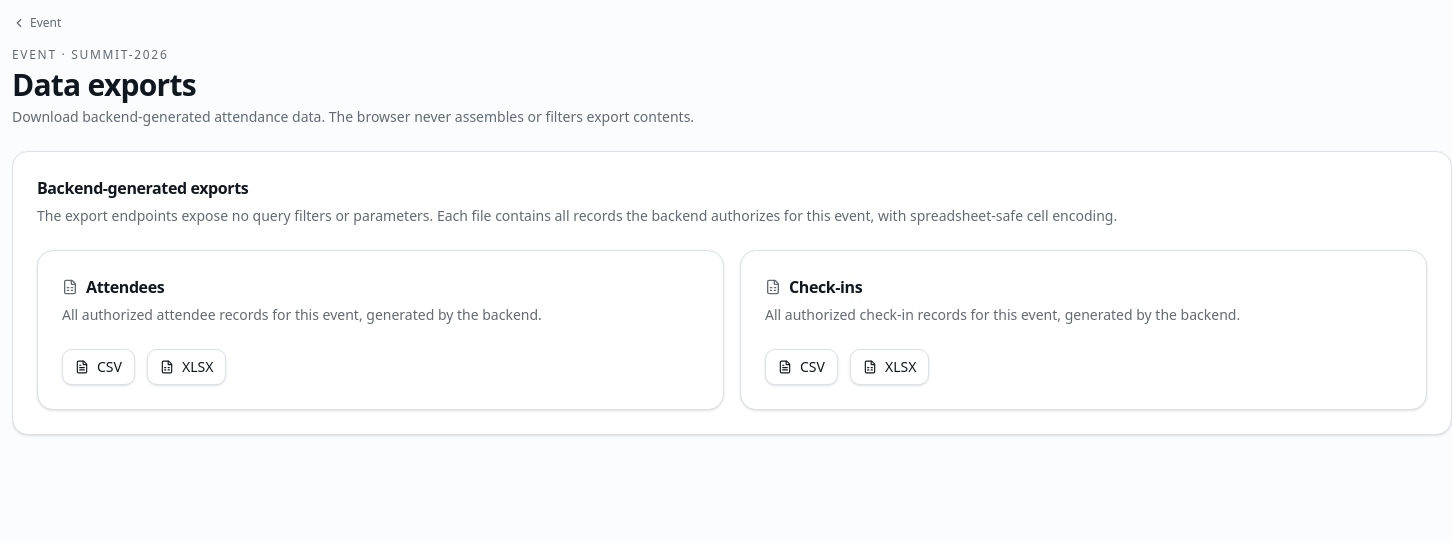
CSV and XLSX exports › downloads attendee CSV with the backend filename and content type
Click the button with aria-label "Download attendees CSV" at x=98, y=367, box left=62, top=349, right=135, bottom=385
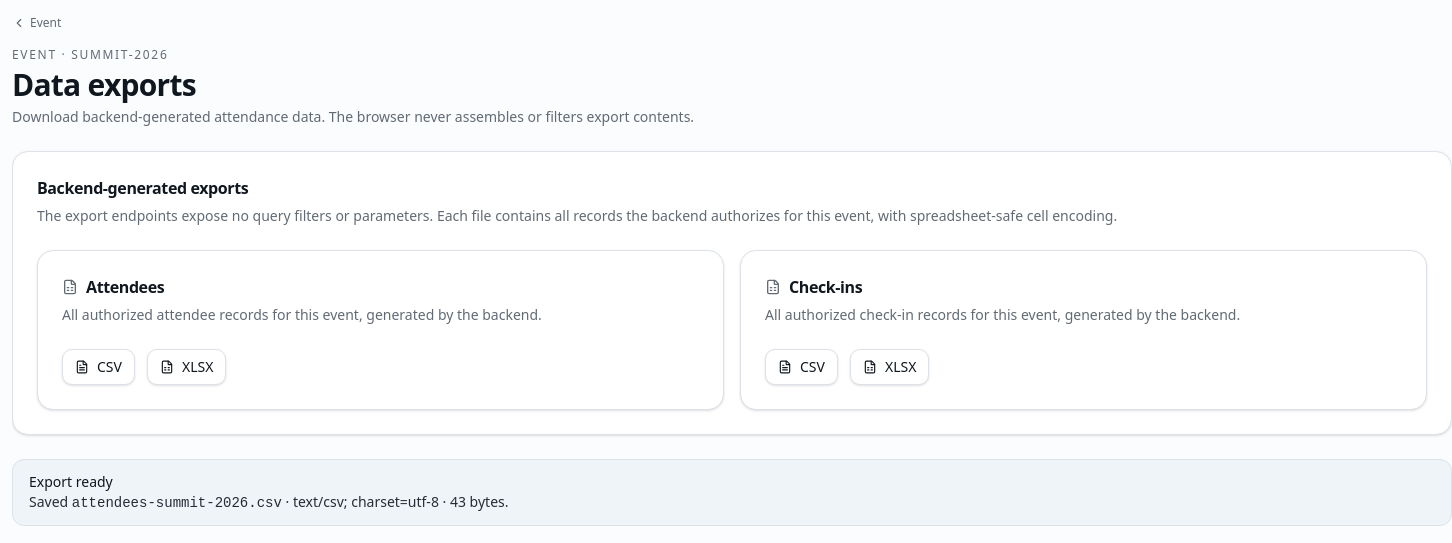
Now the message shows "attendees-summit-2026.csv", box left=72, top=495, right=282, bottom=511
Now the message shows "text/csv; charset=utf-8", box left=293, top=492, right=439, bottom=511
Now the text "attendees-summit-2026.csv" is shown, box left=72, top=495, right=282, bottom=511
